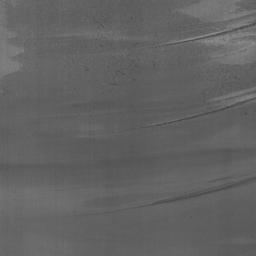Crease: (94, 176, 256, 215), (146, 86, 256, 128), (160, 21, 256, 47), (215, 10, 256, 22), (239, 45, 256, 53)
